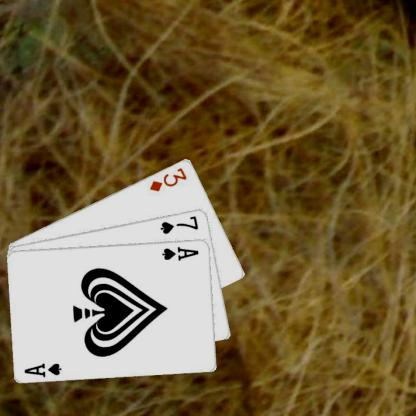3D: (147, 164, 188, 193)
7S: (158, 213, 200, 235)
AS: (22, 360, 63, 378), (160, 244, 200, 262)
